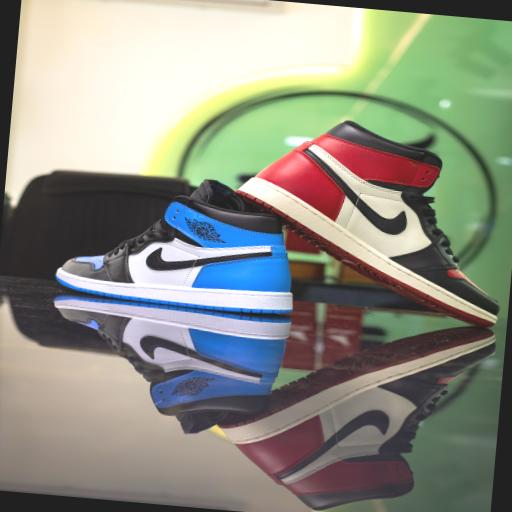shoe: (236, 121, 497, 326), (233, 331, 493, 510), (54, 296, 289, 433), (55, 180, 291, 313)
